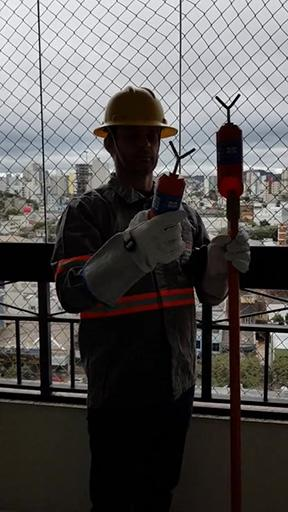Detector_Tensao_Contato: (149, 141, 196, 228), (214, 94, 244, 200)
Vara_Manobra: (225, 196, 241, 512)
